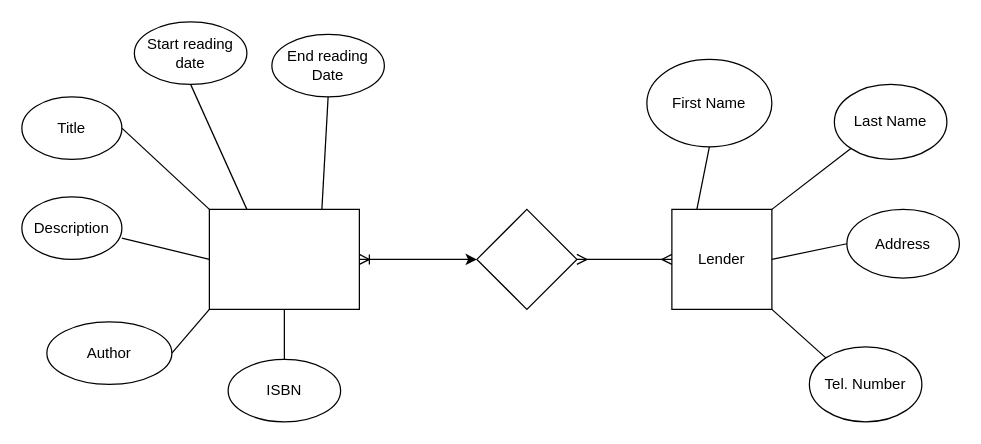
The diagram is 981 pixels wide and 444 high, and some of its shapes have lost their labels. The shapes that lost their labels are listed below. From the top down, each one's centre as x and y in pixels, then its label:
point (283, 258): Book
point (526, 258): has
